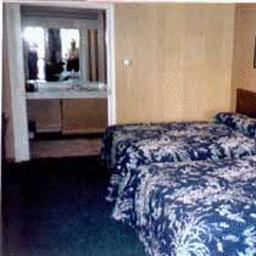Cama: (142, 154, 252, 252), (105, 110, 254, 156)
